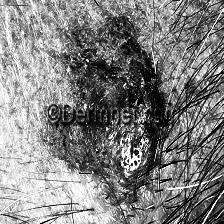Benign Marking or Mole: (70, 34, 165, 171)
